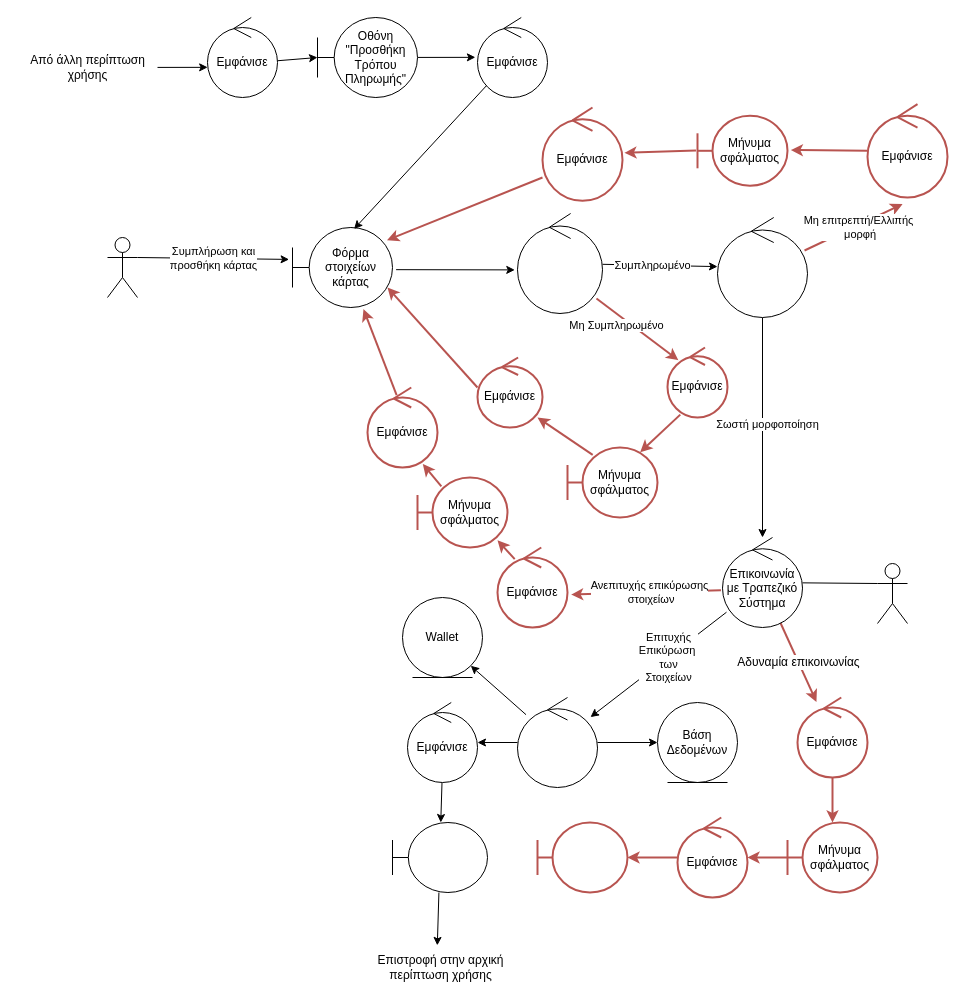
Some shapes in this 965 by 1005 pixel diagram are drawn without their labels. The shapes that lost their labels are listed below. From the top down, each one's box as (x1, y1, x2, y2) in pixels, then its label:
(106, 236, 138, 298): Customer
(516, 212, 602, 314): Έλεγχος Συμπλήρωσης των πεδίων
(716, 216, 808, 318): Έλεγχος Σωστής μορφοποίησης
(876, 562, 908, 624): Τράπεζα
(516, 696, 598, 788): Αποθήκευση
(392, 822, 488, 892): Μήνυμα επιτυχίας
(536, 821, 628, 893): Αρχική οθόνη
